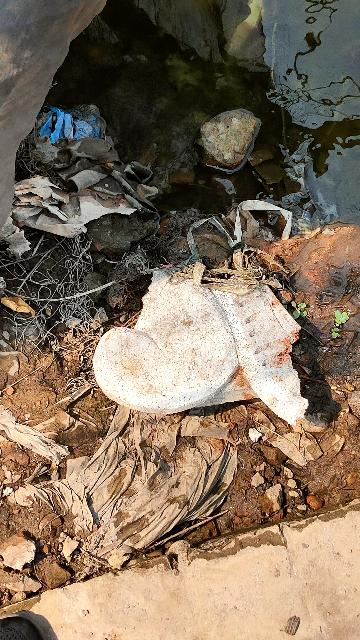cocksheet: (90, 260, 320, 429)
